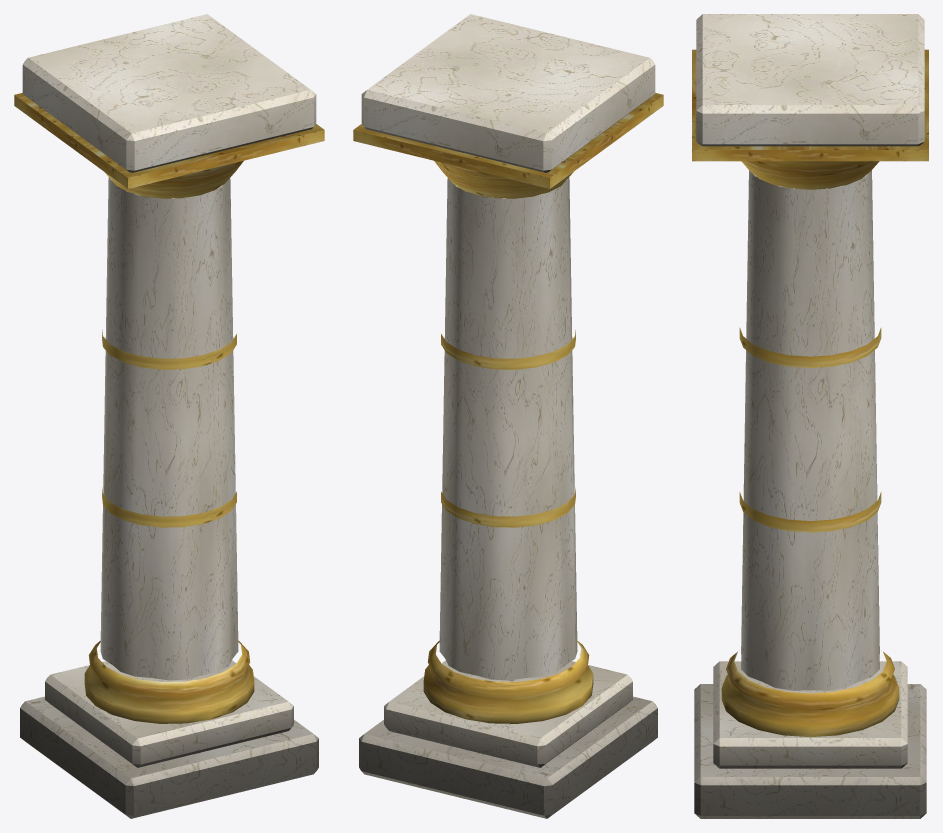
Rendered from bifrost_column.glb.
The picture shows the model from 3 angles, left to right: view 1: azimuth 30°, elevation 25°; view 2: azimuth 150°, elevation 25°; view 3: azimuth 270°, elevation 25°; orthographic projection. The views are drawn at different scales.
Parts seen in each view (by area): view 1: bifrost_column; view 2: bifrost_column; view 3: bifrost_column.
Part boxes in pixels (box(x1,y1,x2,y2)): bifrost_column: box(14, 14, 324, 818); bifrost_column: box(353, 14, 663, 818); bifrost_column: box(692, 14, 928, 818).
Bounding box in the file's own units: 1.12 × 3.72 × 1.12.
Materials: 2 (2 with a texture image).
